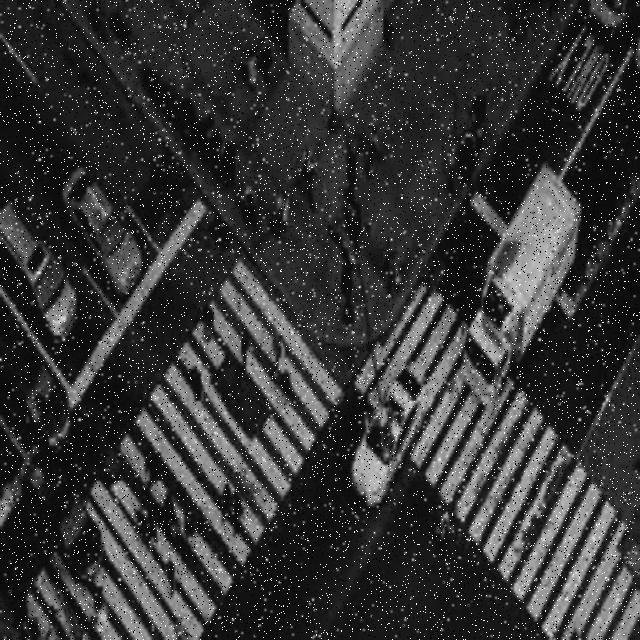crosswalk: (15, 253, 355, 640), (350, 278, 640, 640)
